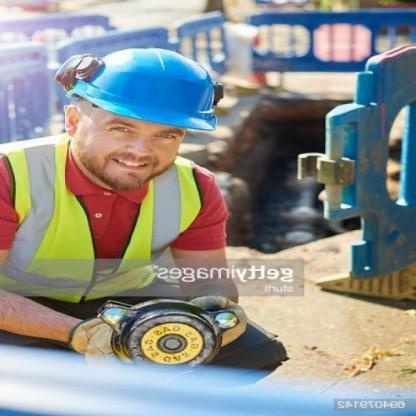blue: (56, 46, 223, 130)
vest: (1, 133, 204, 300)
